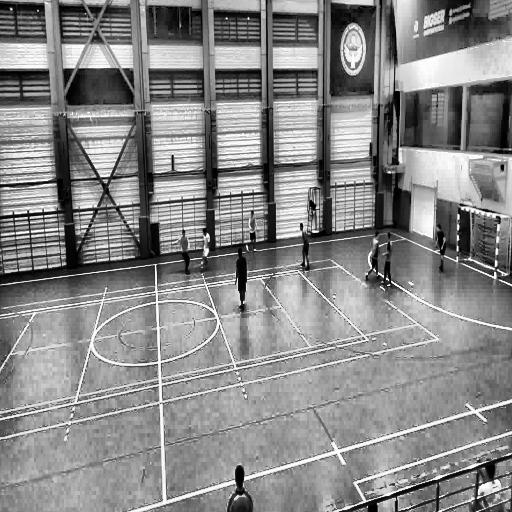player: (235, 246, 246, 311), (366, 231, 380, 282), (381, 232, 393, 284), (432, 222, 444, 271), (180, 229, 191, 275), (300, 222, 310, 270), (246, 210, 257, 252), (200, 226, 210, 271)
